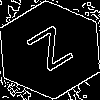Z: (25, 25, 83, 80)
